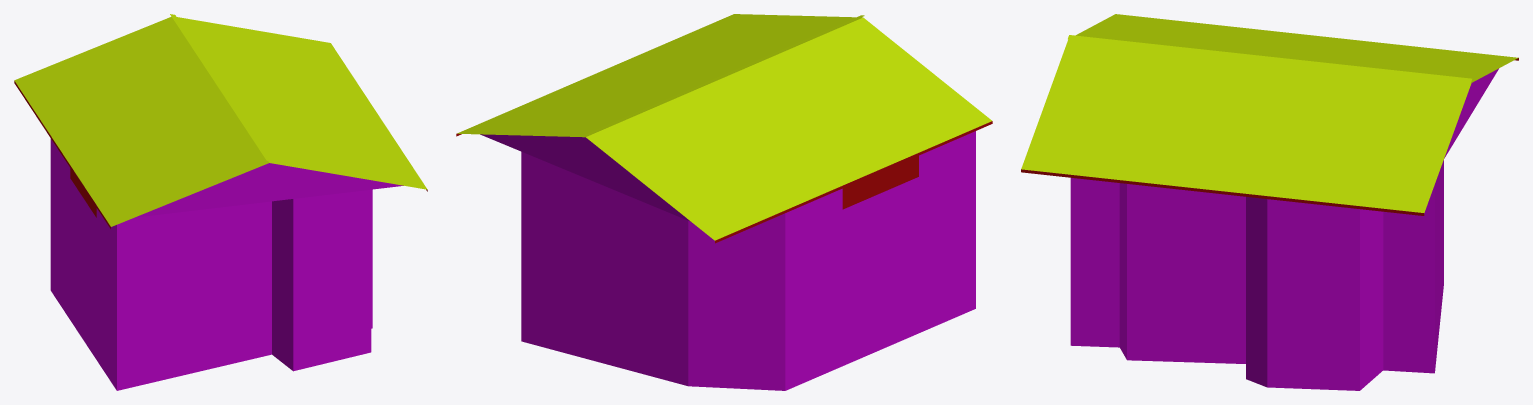
The picture shows the model from 3 angles, left to right: view 1: azimuth 30°, elevation 25°; view 2: azimuth 150°, elevation 25°; view 3: azimuth 270°, elevation 25°; orthographic projection. The views are drawn at different scales.
Visible parts, largest first — view 1: sc_96; view 2: sc_96; view 3: sc_96.
Part boxes in pixels (<box>): sc_96: <box>14,14,427,390</box>; sc_96: <box>456,14,992,390</box>; sc_96: <box>1021,14,1518,390</box>.
Size of the model in its own units: 17.27 by 10.17 by 18.24.
